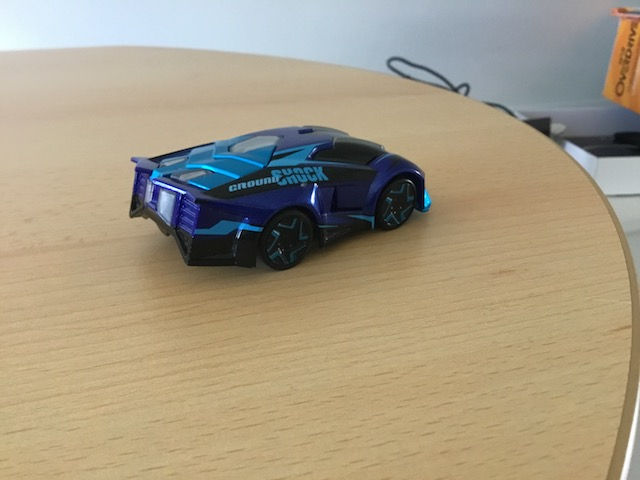car-blue: (125, 120, 436, 274)
